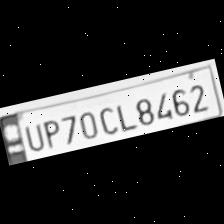0: (74, 106, 100, 142)
2: (184, 78, 210, 113)
4: (149, 89, 173, 123)
6: (166, 85, 191, 119)
7: (57, 110, 80, 146)
8: (130, 94, 156, 128)
C: (93, 102, 120, 138)
L: (110, 98, 136, 132)
P: (36, 115, 64, 150)
U: (21, 120, 46, 154)
